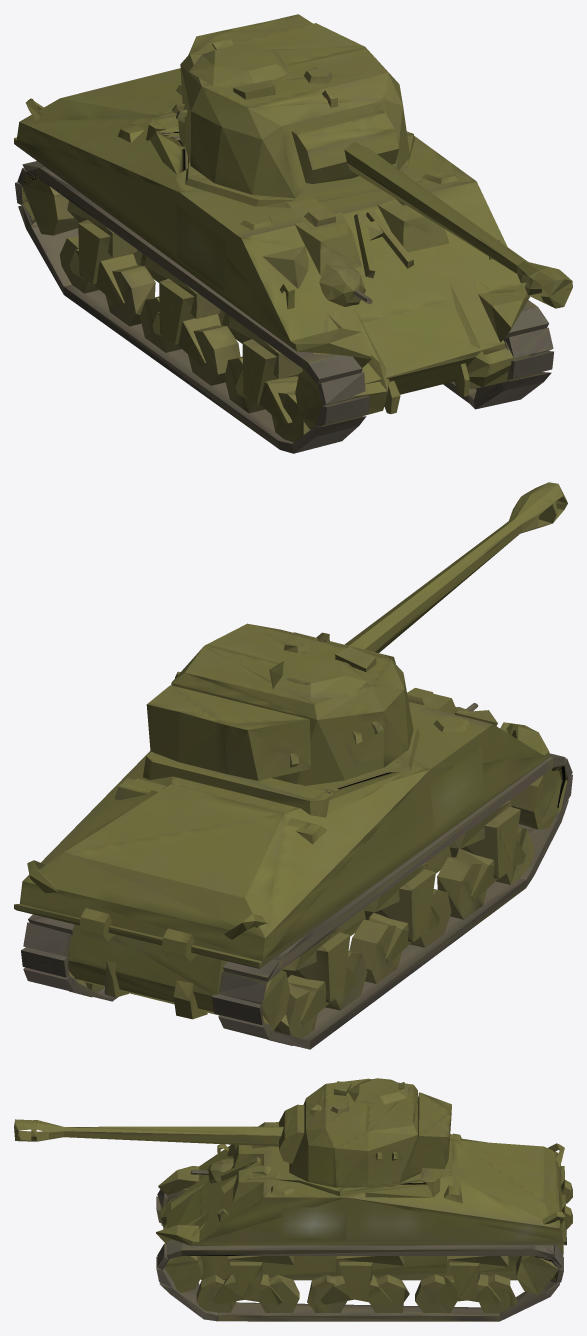
Rendered from bulge_british_armor_1.glb.
3 renders of one model, top to bottom at view 1: azimuth 30°, elevation 25°; view 2: azimuth 150°, elevation 25°; view 3: azimuth 270°, elevation 25°, orthographic. The views are drawn at different scales.
Visible parts, largest first — view 1: geometry_0; view 2: geometry_0; view 3: geometry_0.
Boxes of the visible parts, x1,y1,x2,y2 form: geometry_0: (14, 14, 572, 453); geometry_0: (14, 482, 572, 1049); geometry_0: (14, 1078, 572, 1321).
Bounding box in the file's own units: 0.4758 × 0.5346 × 1.43.
1 material, 1 textured.
